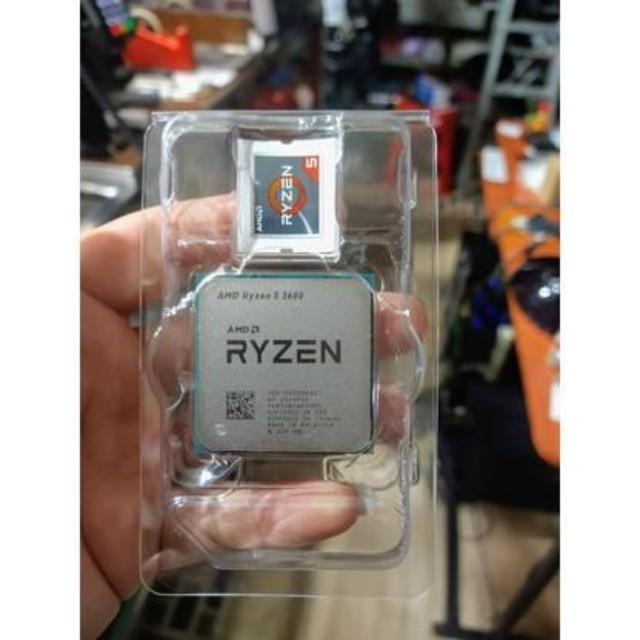CPU: (194, 273, 374, 456)
